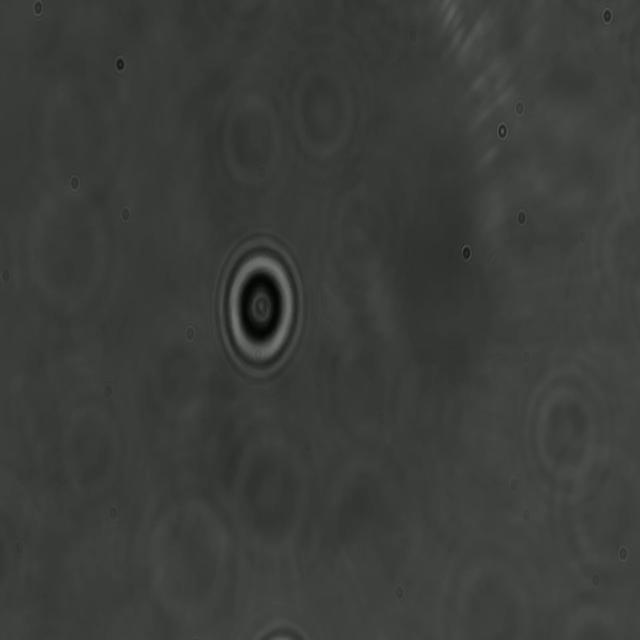LCELL: (214, 230, 307, 384)
